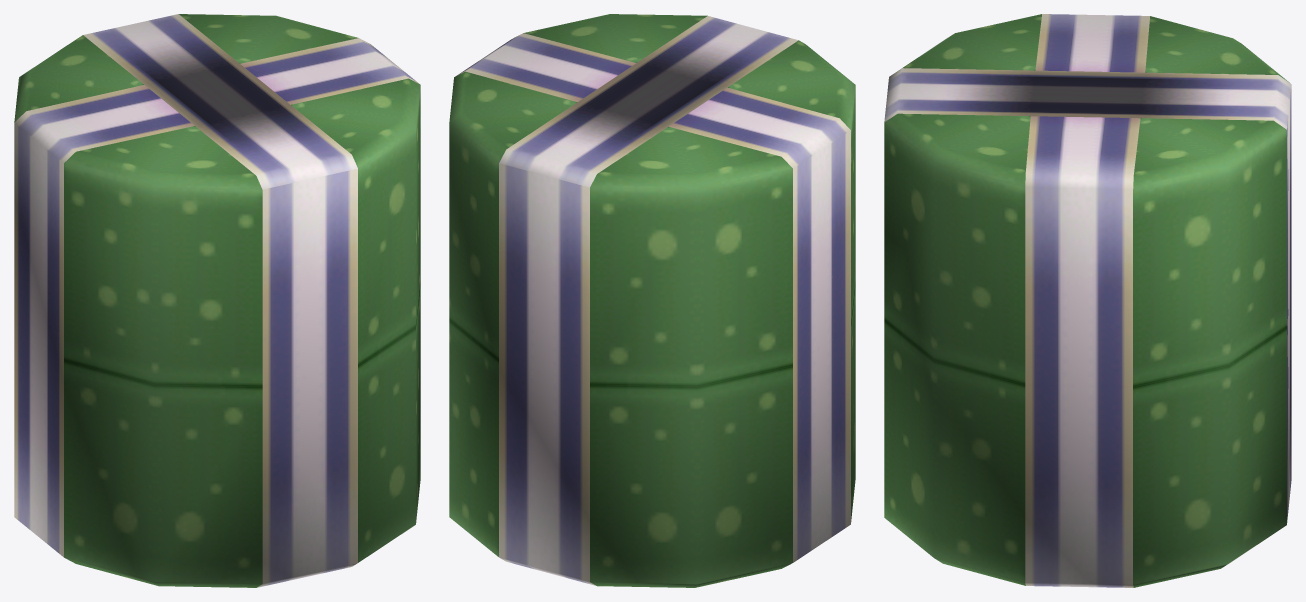
Rendered from barrel_gift.fbx.
3 renders of one model, left to right at view 1: azimuth 30°, elevation 25°; view 2: azimuth 150°, elevation 25°; view 3: azimuth 270°, elevation 25°, orthographic.
Visible parts, largest first — view 1: polygon0; view 2: polygon0; view 3: polygon0.
Part boxes in pixels (x1=…): polygon0: x1=14, y1=14, x2=420, y2=587; polygon0: x1=449, y1=14, x2=855, y2=587; polygon0: x1=884, y1=14, x2=1291, y2=587.
Size of the model in its own units: 5.64 by 6.32 by 5.64.
